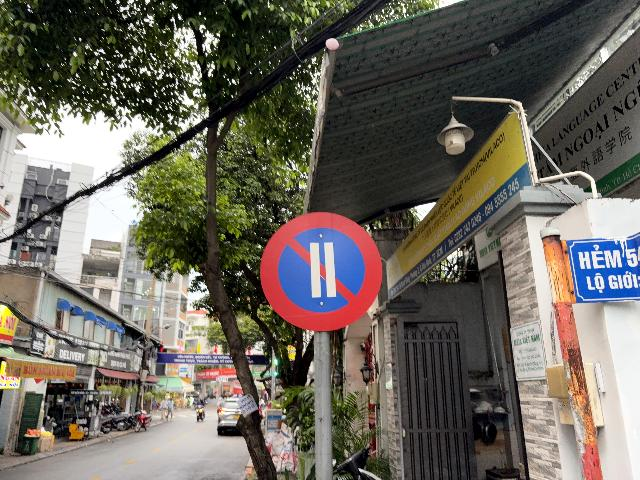cam-do-xe-ngay-chan: (260, 212, 383, 333)
